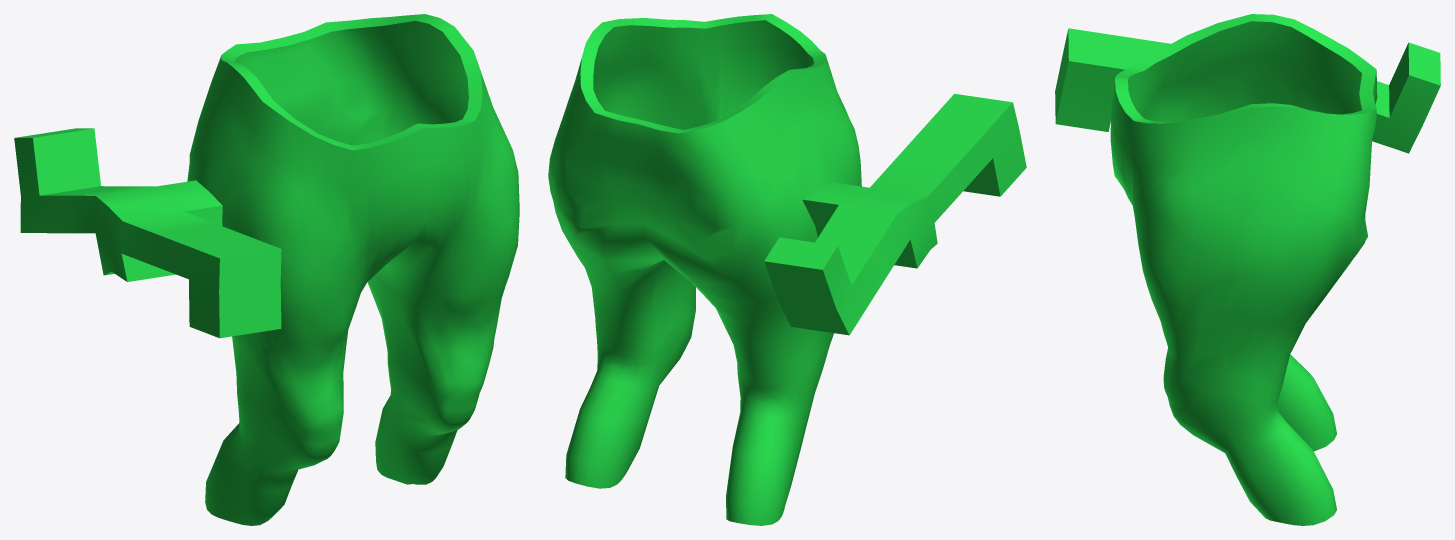
Rendered from TempMultiOb2jPants2.fbx.
The picture shows the model from 3 angles, left to right: view 1: azimuth 30°, elevation 25°; view 2: azimuth 150°, elevation 25°; view 3: azimuth 270°, elevation 25°; orthographic projection. The views are drawn at different scales.
Parts seen in each view (by area): view 1: Pants2; view 2: Pants2; view 3: Pants2.
Boxes of the visible parts, x1,y1,x2,y2 form: Pants2: (14,14,519,525); Pants2: (548,14,1026,525); Pants2: (1055,14,1440,525).
Size of the model in its own units: 77.84 by 89.16 by 74.47.
